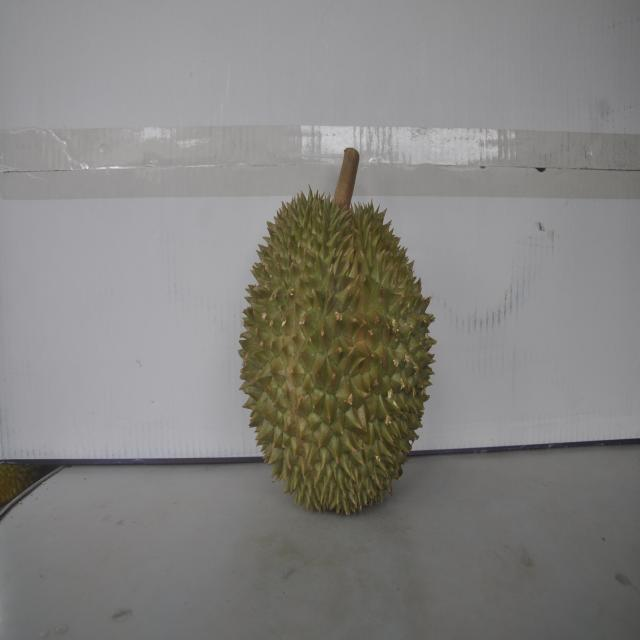mature: (238, 170, 434, 516)
